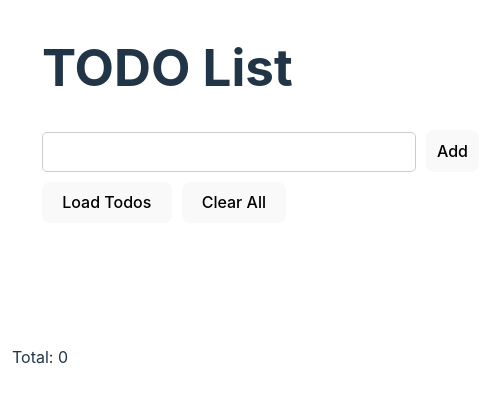
Test: TodoApp › removes a todo when Remove button is clicked
The image size is (499, 413).
Type "Todo to remove" into the field at {"x": 229, "y": 152}, box [42,132,416,172]
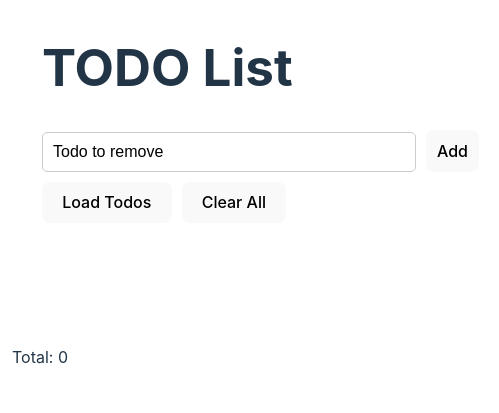
Click the button "Add" at {"x": 452, "y": 151}, box [426,130,479,172]
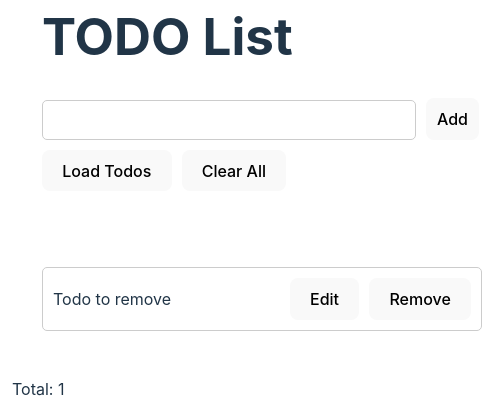
Click the button "Remove" at {"x": 420, "y": 299}, box [369,278,471,320]
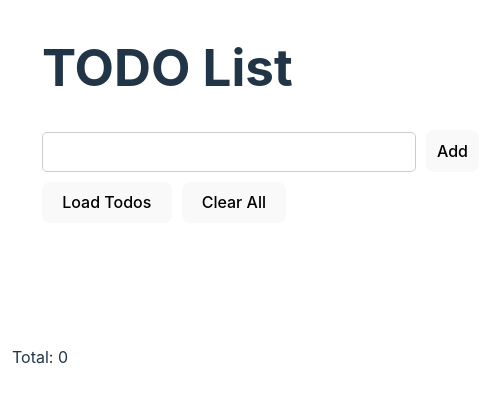
Now the text "Todo to remove" is gone
